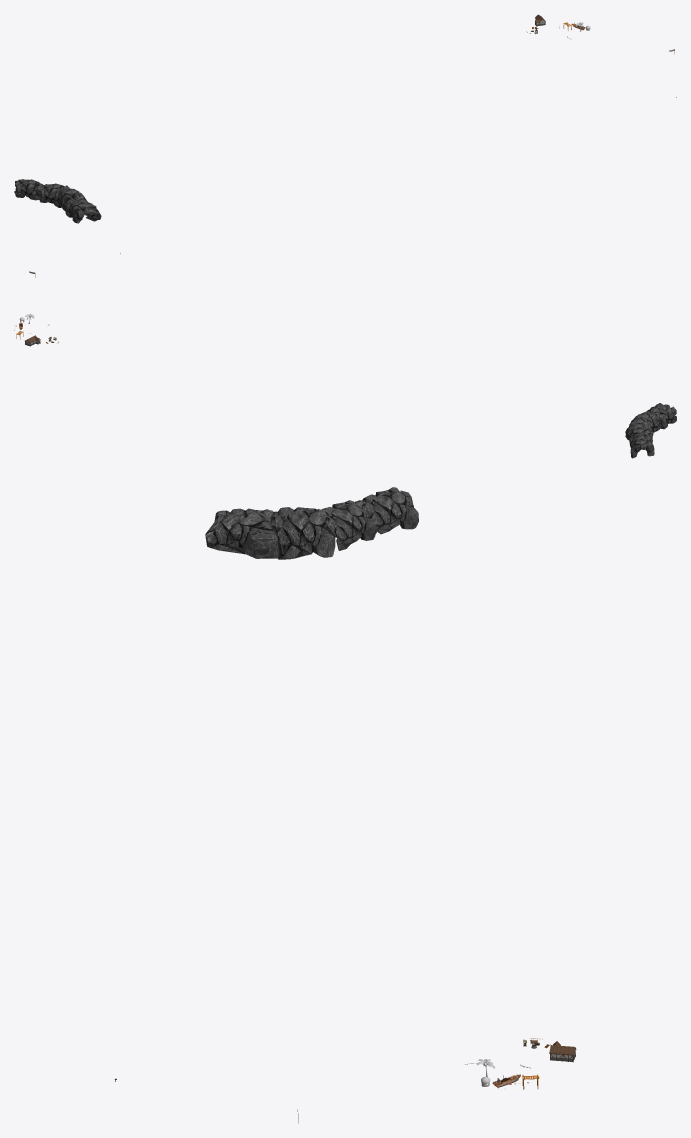
File: props.FBX
3 renders of one model, top to bottom at view 1: azimuth 30°, elevation 25°; view 2: azimuth 150°, elevation 25°; view 3: azimuth 270°, elevation 25°, orthographic. The views are drawn at different scales.
Parts seen in each view (by area): view 1: Object003; view 2: Object003; view 3: Object003.
Part boxes in pixels (left/top/right/bottom): Object003: left=14, top=179, right=101, bottom=223; Object003: left=625, top=403, right=676, bottom=458; Object003: left=205, top=487, right=418, bottom=559.
Bounding box in the file's own units: 187781 × 5767 × 58944.
